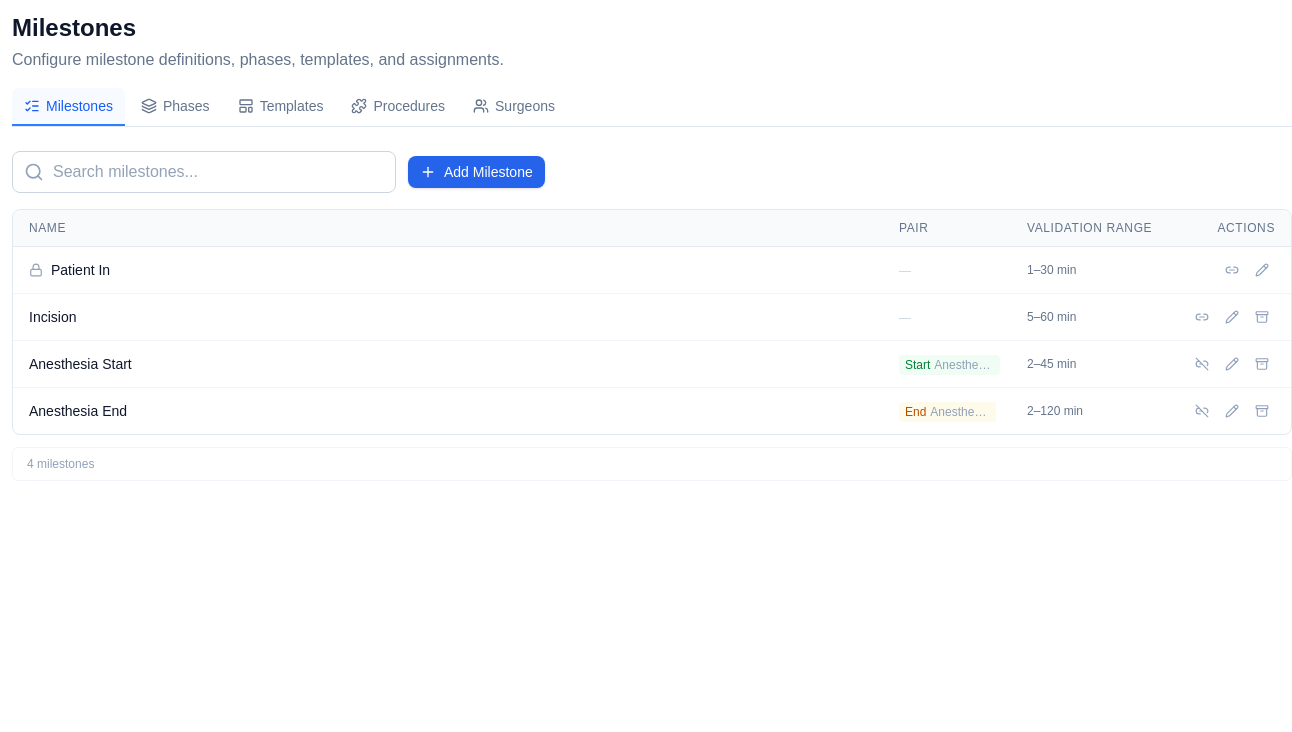
it: MilestonesSettingsPage › Milestones tab - pair linking › shows cancel button in pair linking mode
This screenshot has width=1292, height=732.
Step 1. Click the button titled "Link with another milestone" next to "1–30 min" → click(1232, 270), box [1219, 257, 1245, 283]
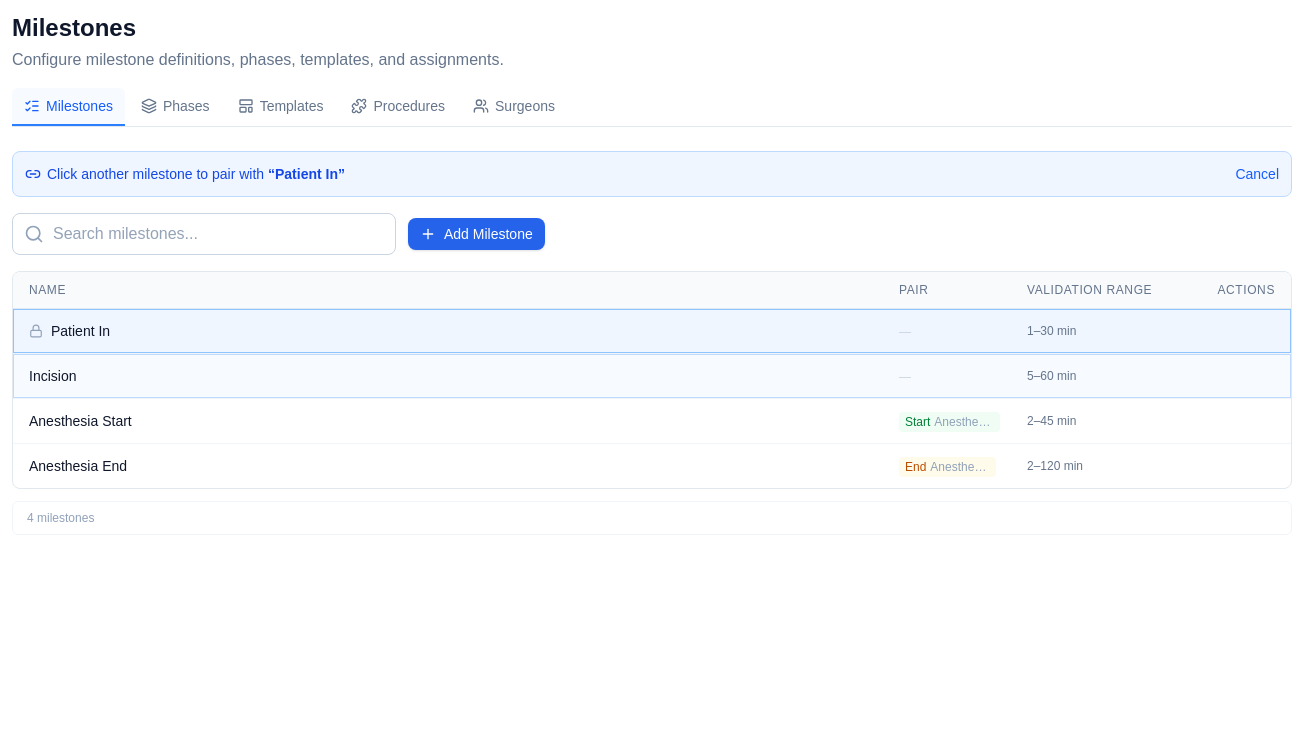
Result: the button "Cancel" is shown at [1235, 164, 1279, 184]
